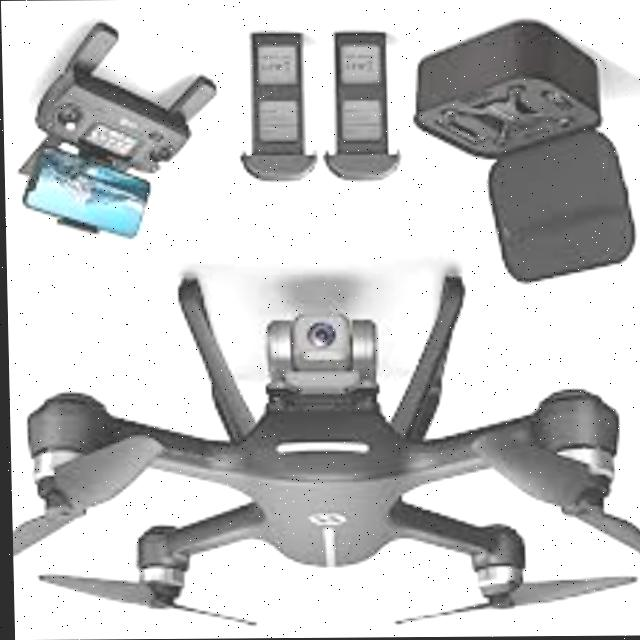drone: (5, 263, 640, 640)
